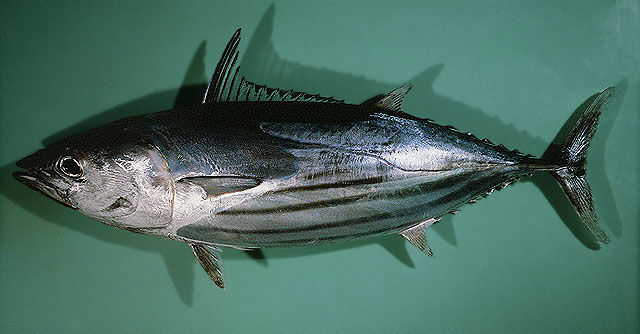fish: (12, 29, 615, 293)
